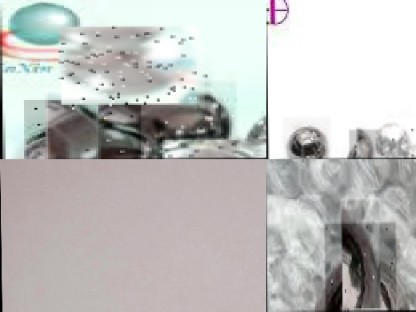ironball: (61, 26, 209, 104), (97, 80, 237, 158), (23, 99, 141, 158), (324, 222, 396, 311), (162, 138, 266, 158), (282, 117, 330, 158), (375, 118, 415, 158), (348, 129, 381, 158)
